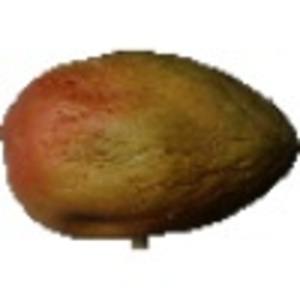mamão: (3, 42, 294, 241)
